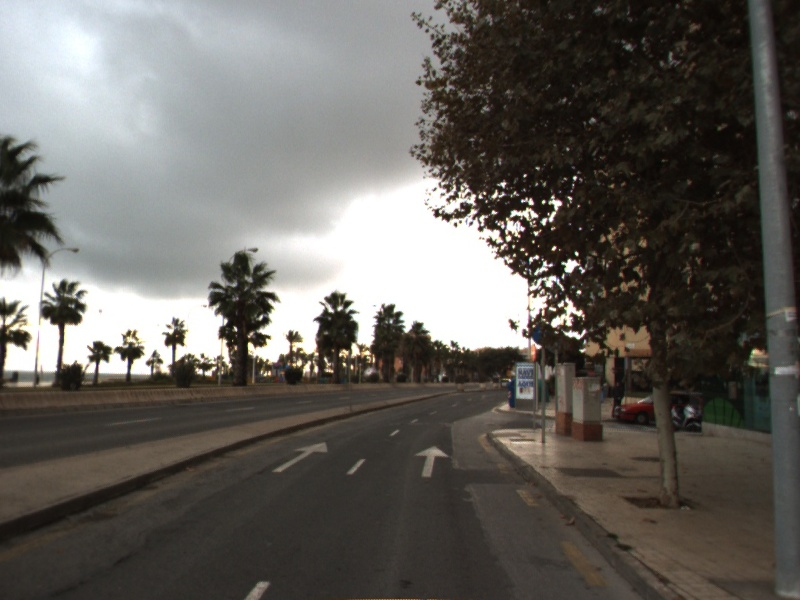STRAIGHT: (271, 440, 329, 474), (412, 444, 451, 479)
